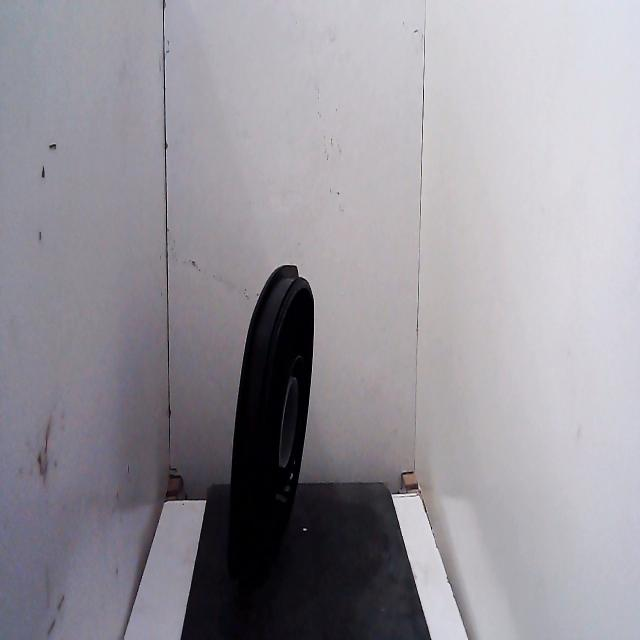plastico: (220, 245, 322, 585)
